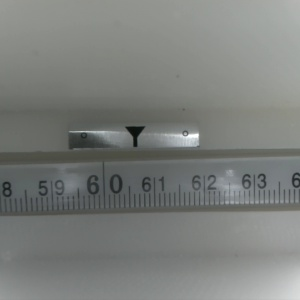0: (109, 174, 123, 193)
2: (207, 175, 216, 190)
3: (257, 174, 266, 189)
5: (38, 180, 48, 196)
6: (86, 175, 99, 194), (241, 173, 251, 189), (141, 176, 151, 192), (191, 174, 200, 190), (291, 172, 300, 188)
8: (1, 181, 11, 197)
9: (53, 179, 64, 195)
finger: (123, 126, 145, 148)
